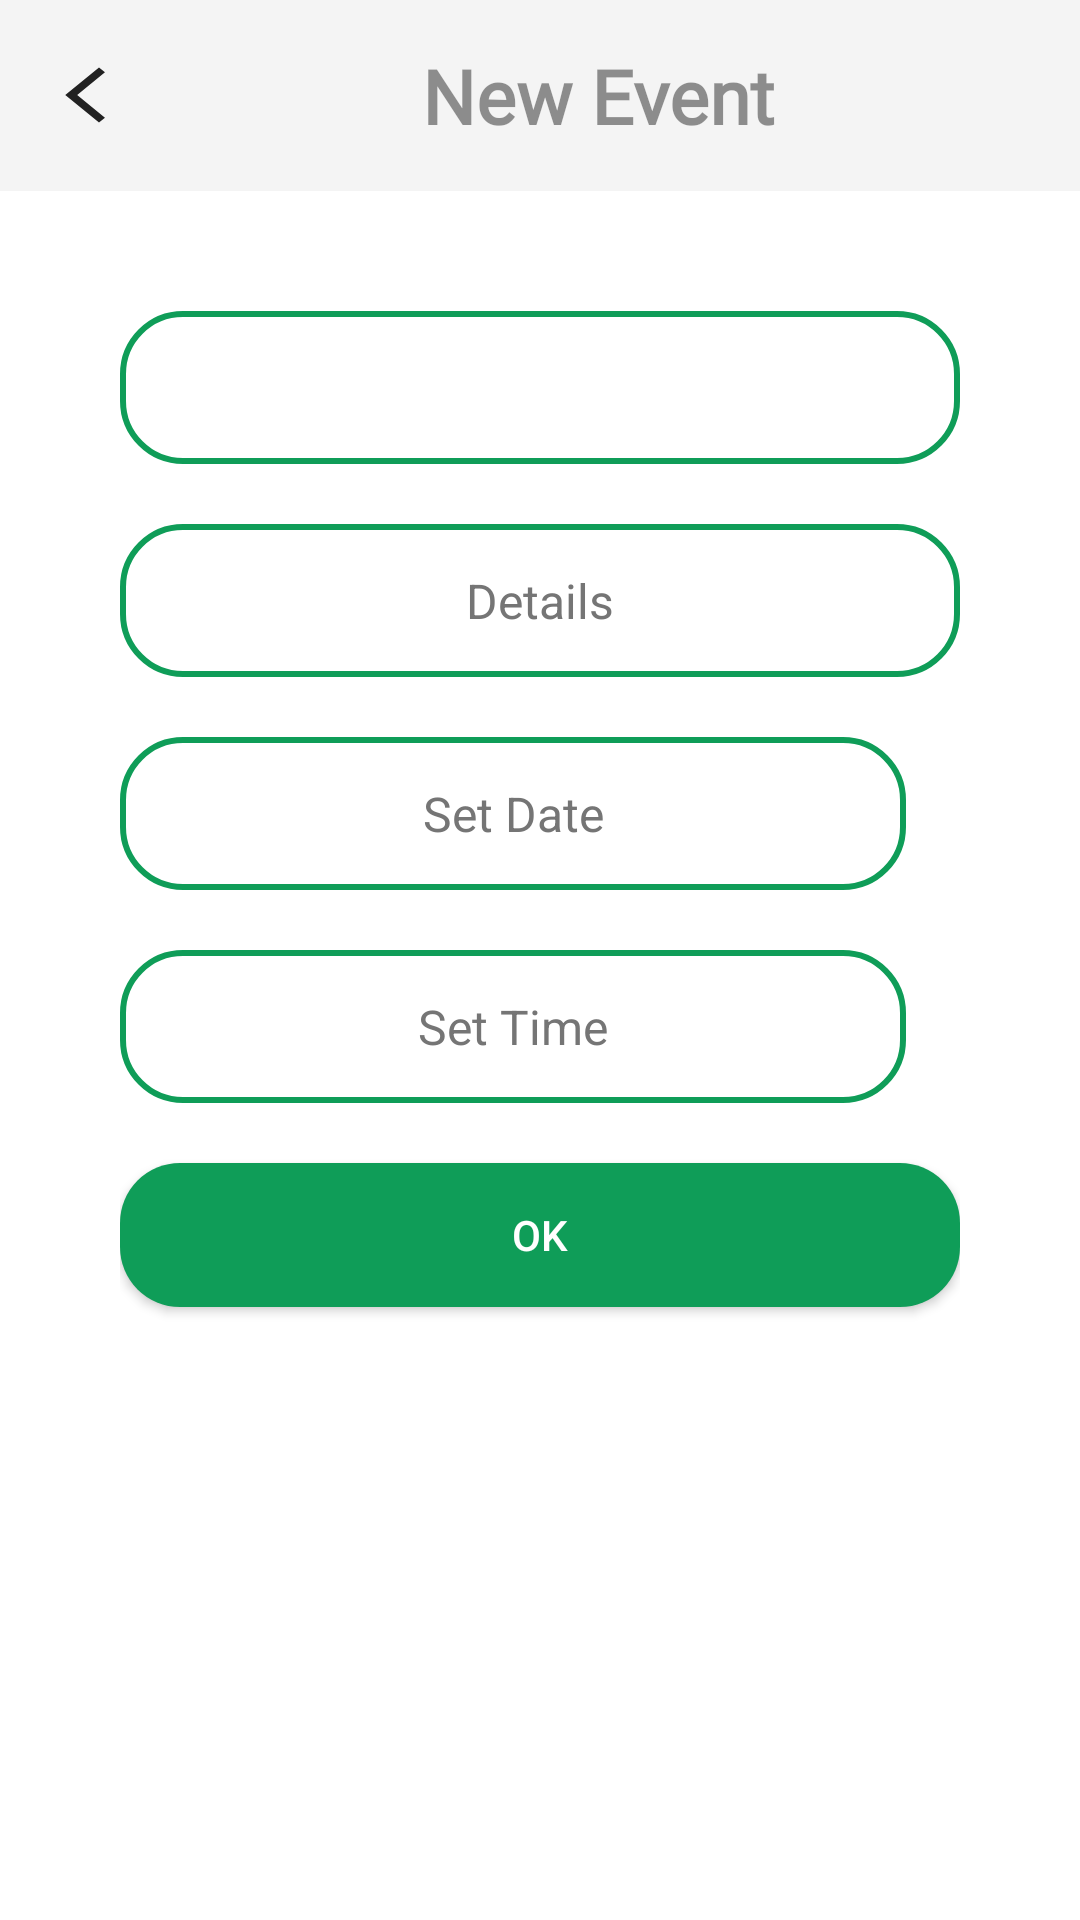

Screen size 1080px×1920px. Icon name, then its box in pixels as {"left": x1, "top": y1, "right": x2, "bottom": y2}:
arrow back: {"left": 65, "top": 67, "right": 105, "bottom": 123}
